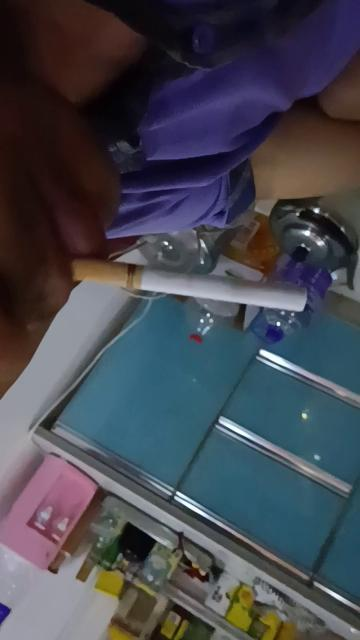Smoking: (73, 260, 309, 312)
